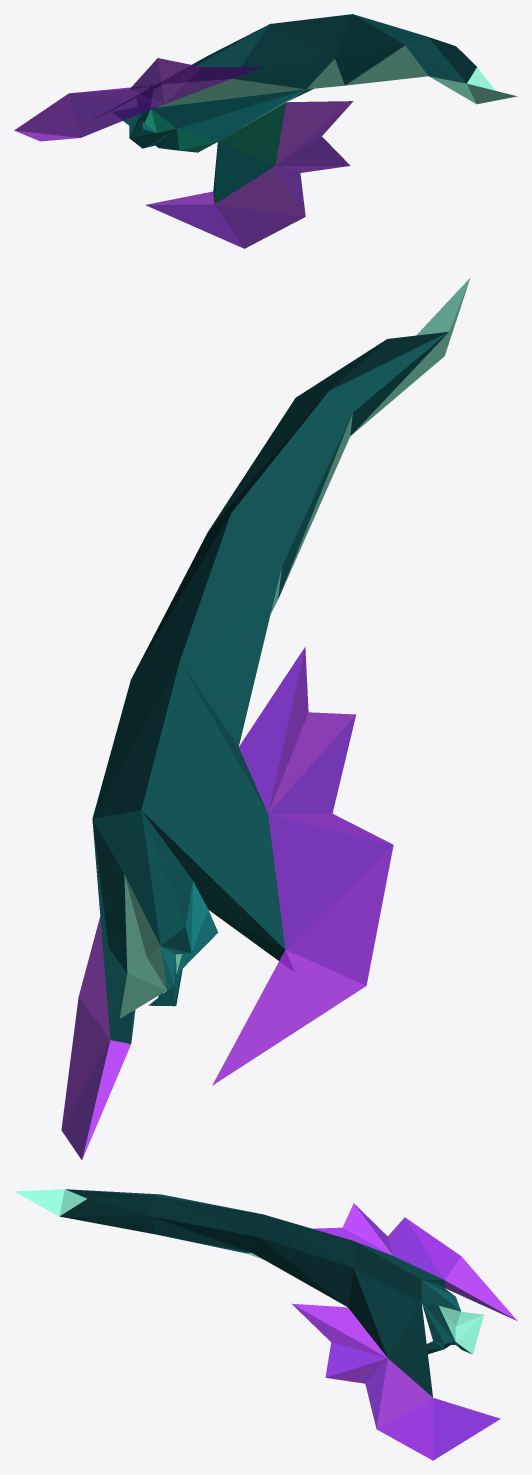
The model's file is player_toxic_blowpipe.glb.
3 views of the same model, one above another, from view 1: azimuth 30°, elevation 25°; view 2: azimuth 150°, elevation 25°; view 3: azimuth 270°, elevation 25° (orthographic). The views are drawn at different scales.
Bounding box in the file's own units: 39.99 × 52.95 × 88.97.
Materials: 2 (2 with a texture image).
